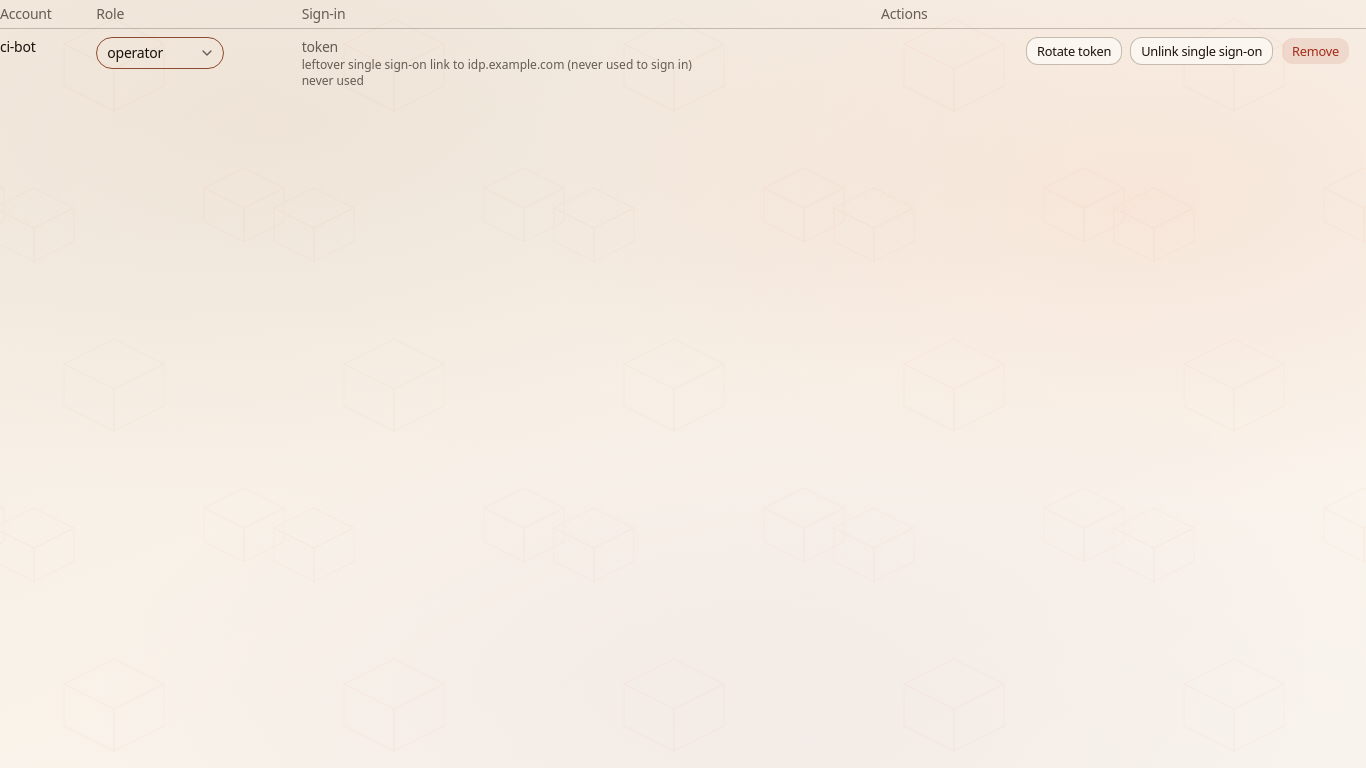
the accounts table › shows a service account’s leftover link and offers to remove it
Expected: the text "leftover single sign-on link to idp.example.com" is shown, [302, 56, 692, 73]
Click the button "Unlink single sign-on". click: (1202, 51)
box: [1130, 37, 1273, 65]
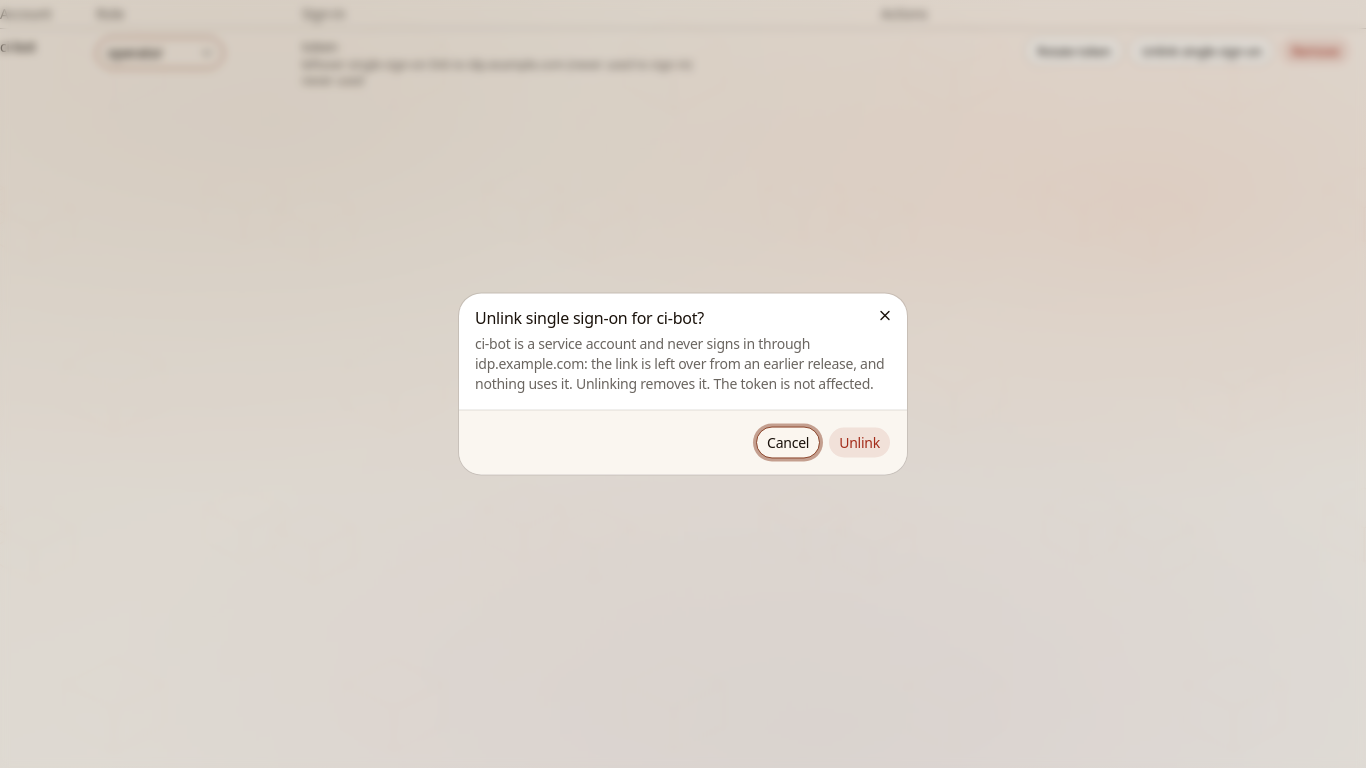
Result: the text "never signs in through idp.example.com" is shown at [475, 334, 891, 394]
